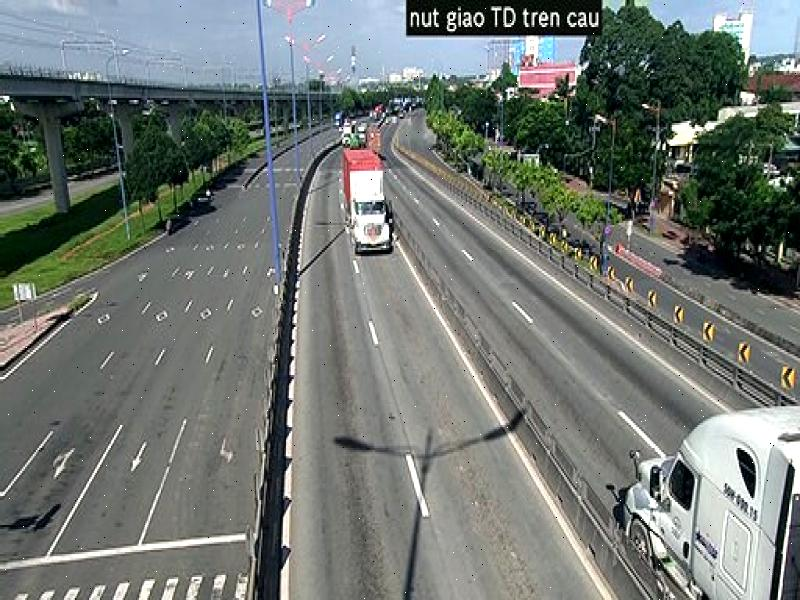truck: (622, 400, 800, 600), (340, 138, 395, 259)
